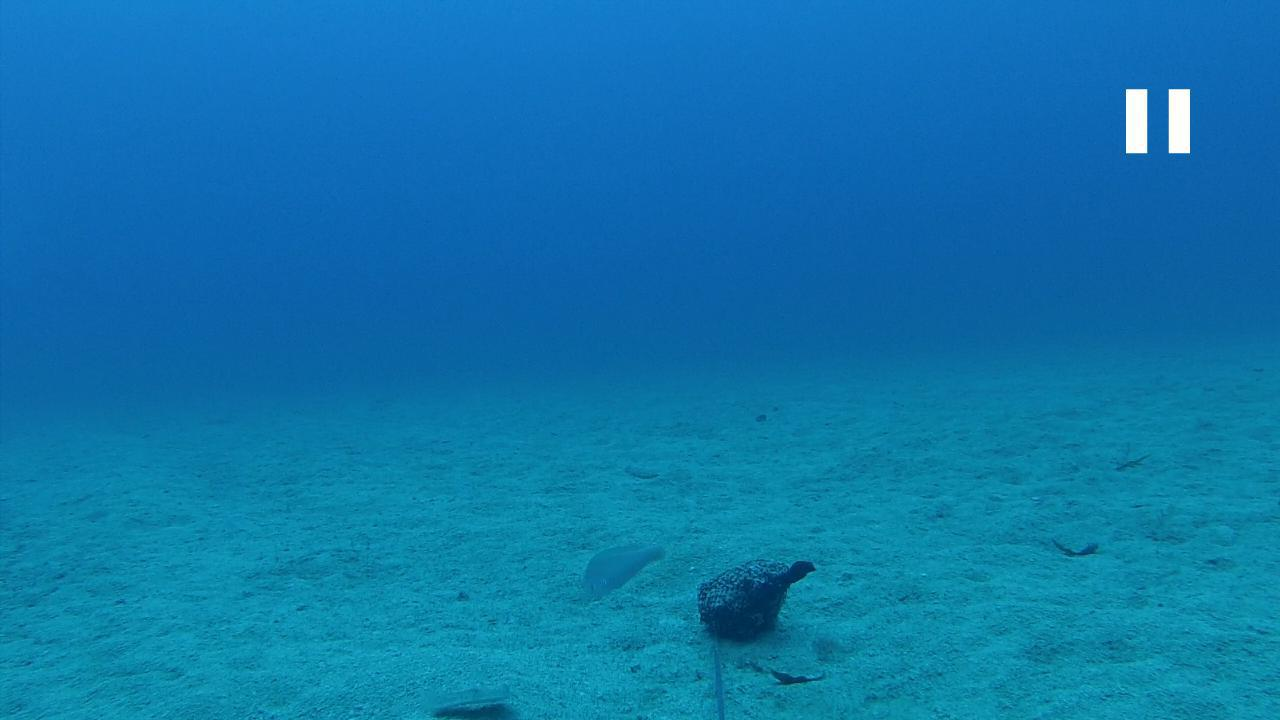bothus: (418, 682, 520, 719), (621, 462, 658, 481)
raor: (584, 541, 667, 602)
